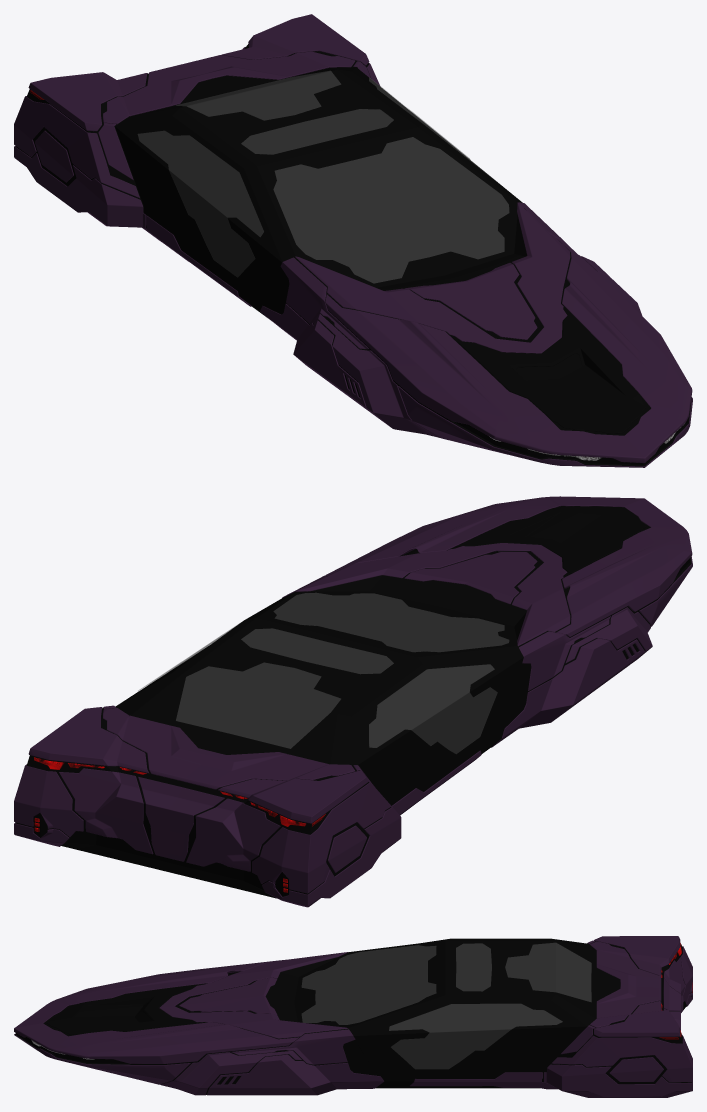
File: car.glb
3 renders of one model, top to bottom at view 1: azimuth 30°, elevation 25°; view 2: azimuth 150°, elevation 25°; view 3: azimuth 270°, elevation 25°, orthographic. The views are drawn at different scales.
Visible parts, largest first — view 1: Cube, Cube.002, Cube.027, Cube.028, Cube.026, Cube.017, Cube.025, Cube.015, Cube.034, Cube.036, Cube.018, Cube.019 (+6 smaller); view 2: Cube, Cube.002, Cube.027, Cube.020, Cube.018, Cube.017, Cube.015, Cube.028, Cube.025, Cube.026, Cube.037, Cube.001 (+8 smaller); view 3: Cube, Cube.002, Cube.027, Cube.037, Cube.028, Cube.026, Cube.025, Cube.017, Cube.018, Cube.015, Cube.019, Cube.036 (+8 smaller).
Boxes of the visible parts, x1,y1,x2,y2 form: Cube: [15, 44, 522, 318]; Cube.002: [138, 71, 509, 283]; Cube.027: [325, 238, 692, 463]; Cube.028: [295, 202, 570, 353]; Cube.026: [457, 313, 645, 433]; Cube.017: [28, 14, 369, 131]; Cube.025: [264, 208, 691, 466]; Cube.015: [103, 51, 355, 124]; Cube.034: [404, 263, 537, 339]; Cube.036: [313, 255, 642, 437]; Cube.018: [14, 63, 380, 198]; Cube.019: [14, 146, 146, 228]; Cube: [15, 591, 523, 898]; Cube.002: [138, 593, 508, 753]; Cube.027: [325, 496, 692, 637]; Cube.020: [59, 768, 280, 871]; Cube.018: [14, 764, 391, 893]; Cube.017: [28, 707, 368, 823]; Cube.015: [103, 708, 354, 789]; Cube.028: [295, 543, 570, 646]; Cube.025: [311, 506, 691, 726]; Cube.026: [457, 506, 645, 573]; Cube.037: [325, 575, 645, 747]; Cube.001: [138, 777, 224, 861]; Cube: [294, 938, 691, 1088]; Cube.002: [302, 943, 591, 1068]; Cube.027: [14, 960, 298, 1063]; Cube.037: [207, 1054, 383, 1095]; Cube.028: [159, 952, 347, 1038]; Cube.026: [46, 984, 197, 1034]; Cube.025: [15, 957, 378, 1094]; Cube.017: [594, 936, 680, 1036]; Cube.018: [551, 946, 692, 1082]; Cube.015: [590, 941, 661, 1027]; Cube.019: [543, 993, 692, 1097]; Cube.036: [160, 1051, 301, 1095].
Size of the model in its own units: 2.44 by 0.9752 by 6.94.
6 materials, 2 textured.
